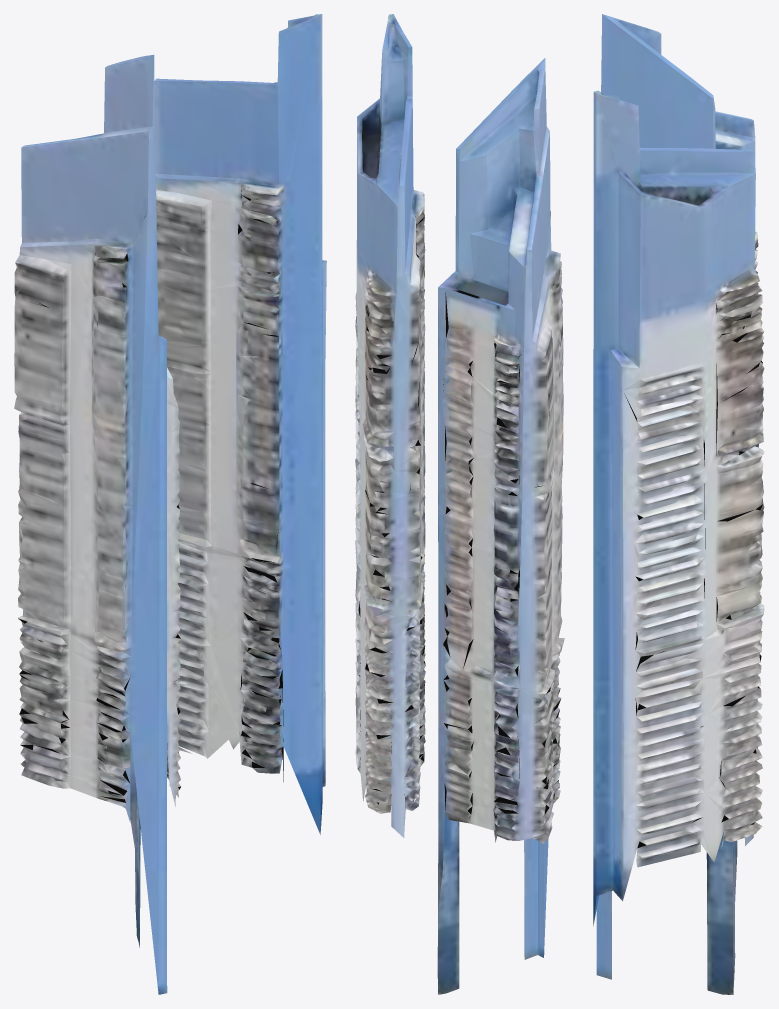
Rendered from twin.glb.
3 views of the same model, side by side, from view 1: azimuth 30°, elevation 25°; view 2: azimuth 150°, elevation 25°; view 3: azimuth 270°, elevation 25° (orthographic). The views are drawn at different scales.
Parts seen in each view (by area): view 1: Body; view 2: Body; view 3: Body.
Part boxes in pixels (x1,y1,x2,y2): Body: [14, 14, 326, 994]; Body: [355, 14, 564, 994]; Body: [593, 14, 764, 994].
Size of the model in its own units: 56.55 by 200 by 32.23.
1 material, 1 textured.
